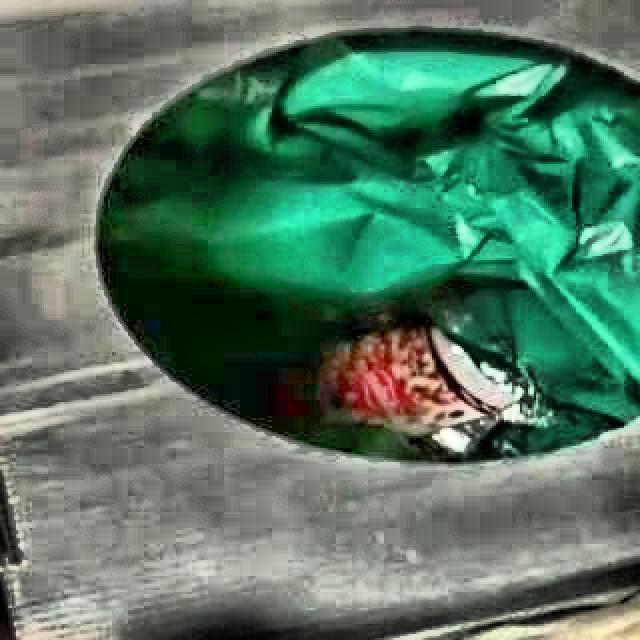plastic: (323, 328, 533, 461)
